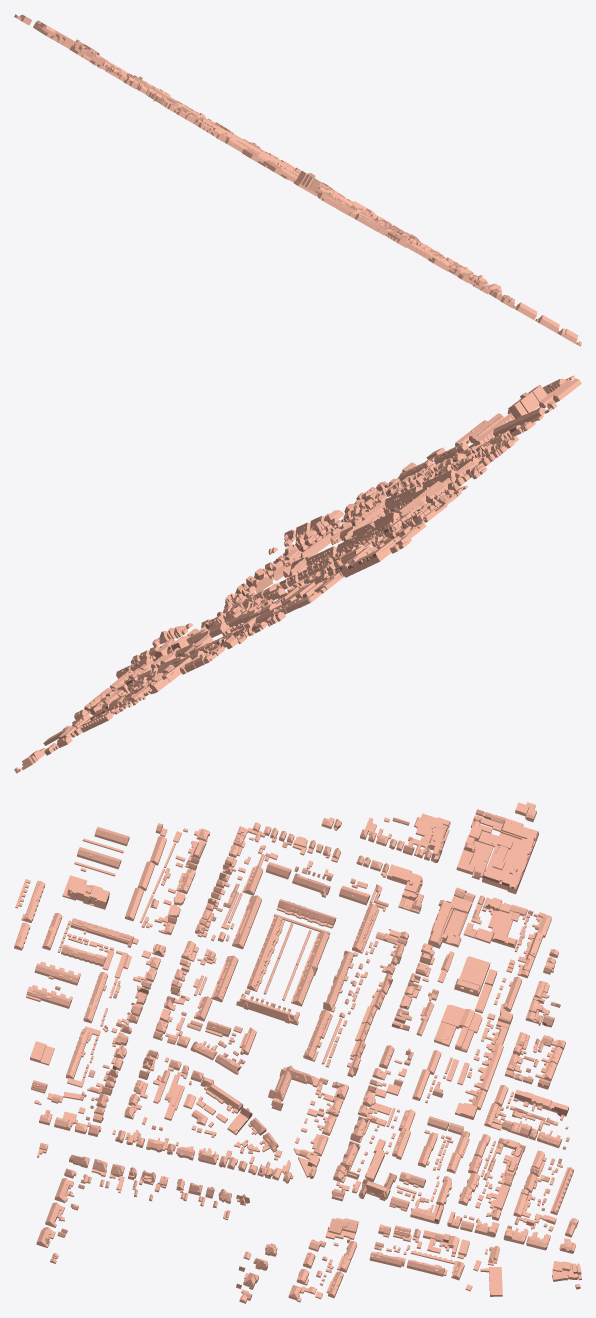
The picture shows the model from 3 angles, top to bottom: view 1: azimuth 30°, elevation 25°; view 2: azimuth 150°, elevation 25°; view 3: azimuth 270°, elevation 25°; orthographic projection. The views are drawn at different scales.
Size of the model in its own units: 521 by 386 by 638.
